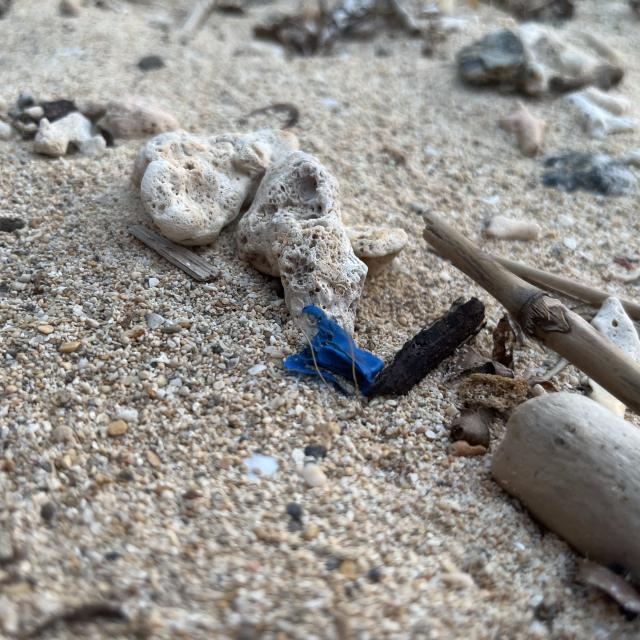rock: (242, 150, 390, 349), (136, 108, 302, 250), (450, 17, 630, 93)
stick: (426, 207, 640, 415), (485, 387, 640, 588), (433, 222, 640, 330)
trash: (274, 288, 399, 402)
